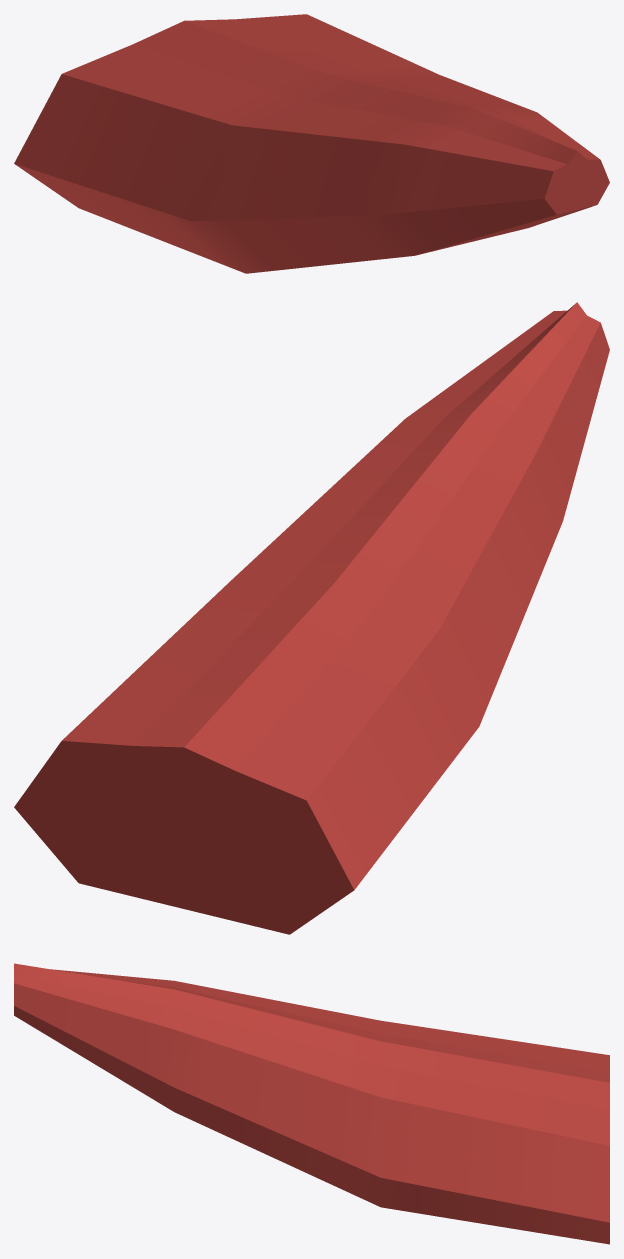
The model's file is sport.glb.
The picture shows the model from 3 angles, top to bottom: view 1: azimuth 30°, elevation 25°; view 2: azimuth 150°, elevation 25°; view 3: azimuth 270°, elevation 25°; orthographic projection. The views are drawn at different scales.
Visible parts, largest first — view 1: lod0; view 2: lod0; view 3: lod0.
Part boxes in pixels (left/top/right/bottom): lod0: left=14, top=14, right=609, bottom=273; lod0: left=14, top=302, right=609, bottom=934; lod0: left=14, top=963, right=609, bottom=1244.
Size of what is drawn, in the model's own units: 0.26 by 0.233 by 0.52.
